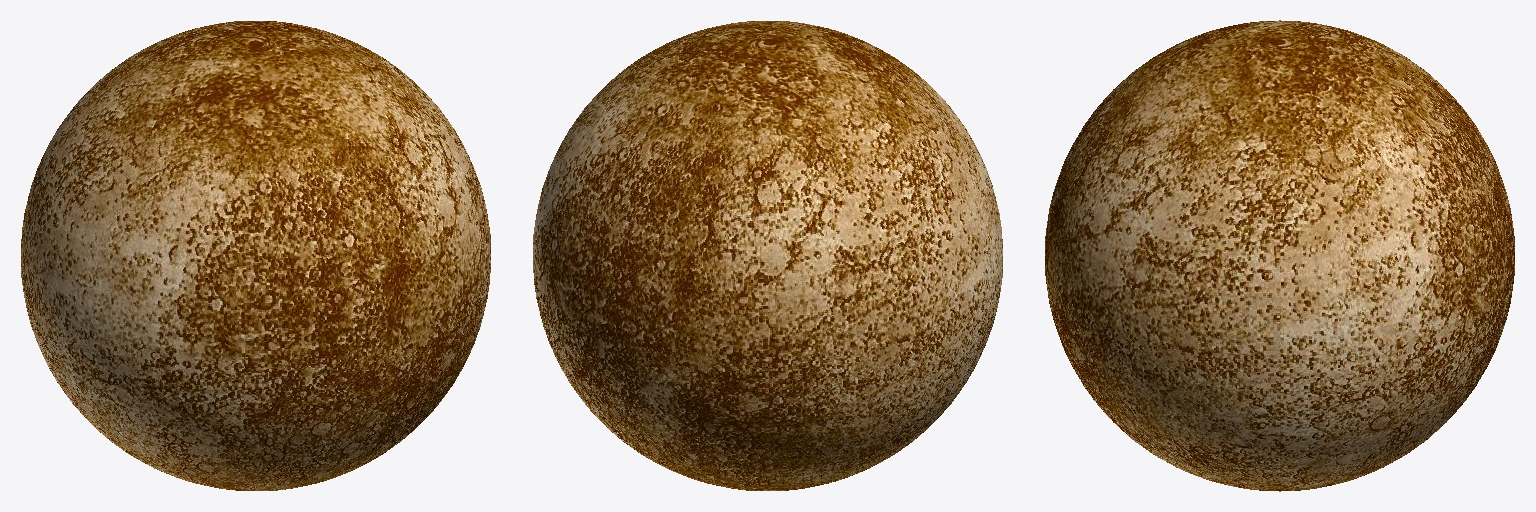
The picture shows the model from 3 angles: view 1: azimuth 30°, elevation 25°; view 2: azimuth 150°, elevation 25°; view 3: azimuth 270°, elevation 25°; orthographic projection.
Visible parts, largest first — view 1: Sphere; view 2: Sphere; view 3: Sphere.
Boxes of the visible parts, <box> form: Sphere: <box>21,21,490,490</box>; Sphere: <box>533,21,1002,490</box>; Sphere: <box>1045,20,1514,491</box>.
Bounding box in the file's own units: 7.66 × 7.66 × 7.66.
1 materials, 1 textured.